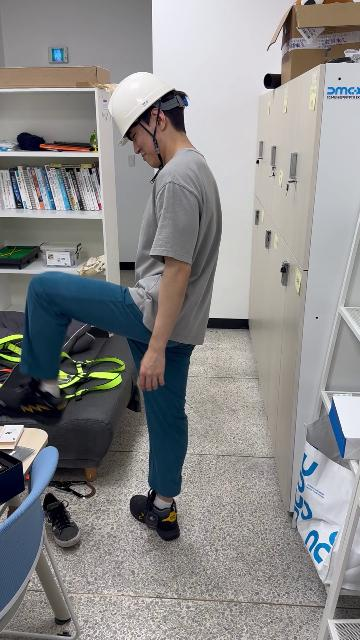helmet_worn: (107, 71, 178, 149)
shoe_not_worn: (41, 492, 81, 548)
shoe_worn: (1, 374, 68, 422), (129, 488, 180, 540)
vest_not_worn: (137, 167, 221, 346)
